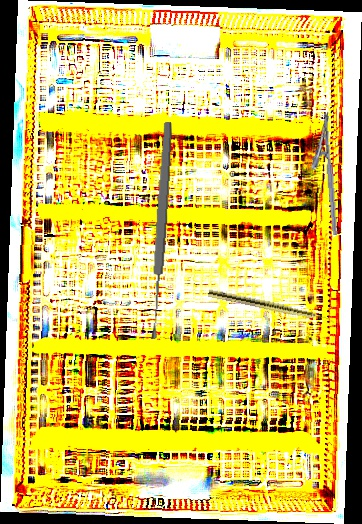Handpiece: (207, 288, 336, 326)
Needle Holder: (307, 111, 338, 237)
Surgical Spoon: (146, 121, 175, 340)
